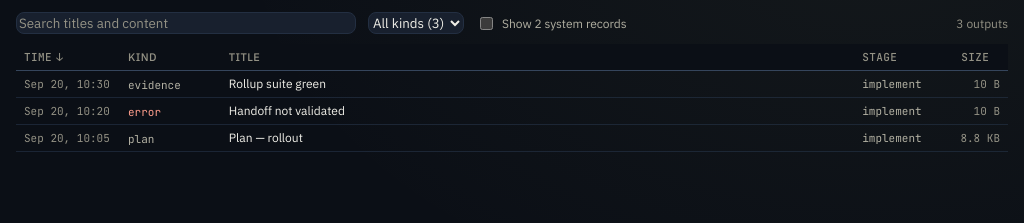
it: shows the system records when asked
Click the checkbox labelled "Show 2 system records".
click(486, 23)  # box [480, 16, 493, 30]
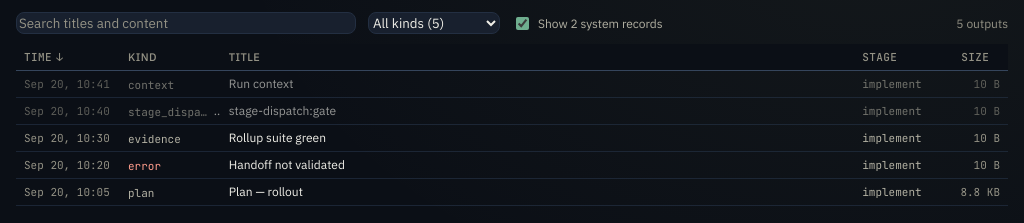
Expected: the text "stage-dispatch:gate" is shown, [229, 103, 336, 118]
